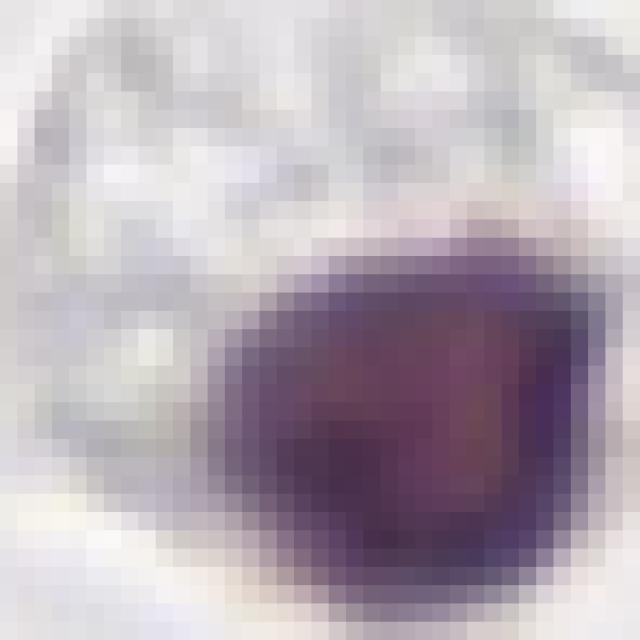cytoplasm: (0, 3, 625, 623)
nucleus: (192, 225, 609, 615)
